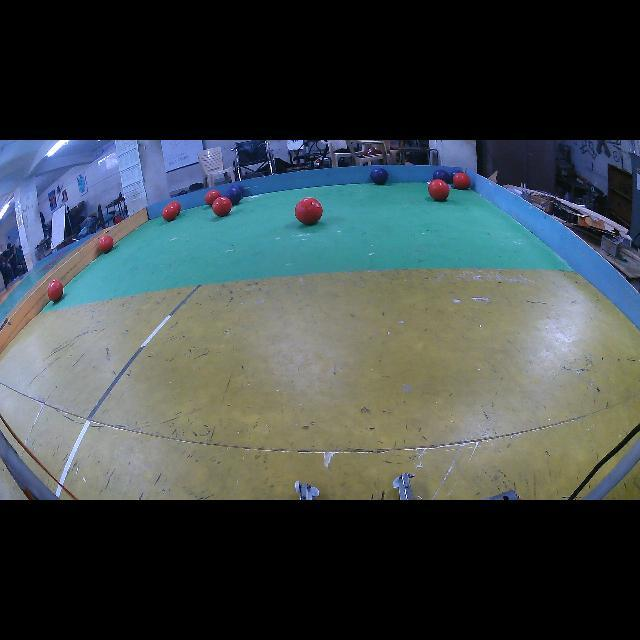P: (370, 168, 389, 185), (432, 169, 450, 183), (225, 189, 241, 204), (230, 184, 244, 196), (450, 170, 462, 180)
R: (295, 198, 322, 225), (429, 179, 450, 201), (211, 196, 231, 216), (48, 280, 64, 301), (452, 172, 470, 190), (205, 190, 221, 206), (162, 205, 178, 221), (100, 235, 114, 253), (169, 201, 181, 214)
